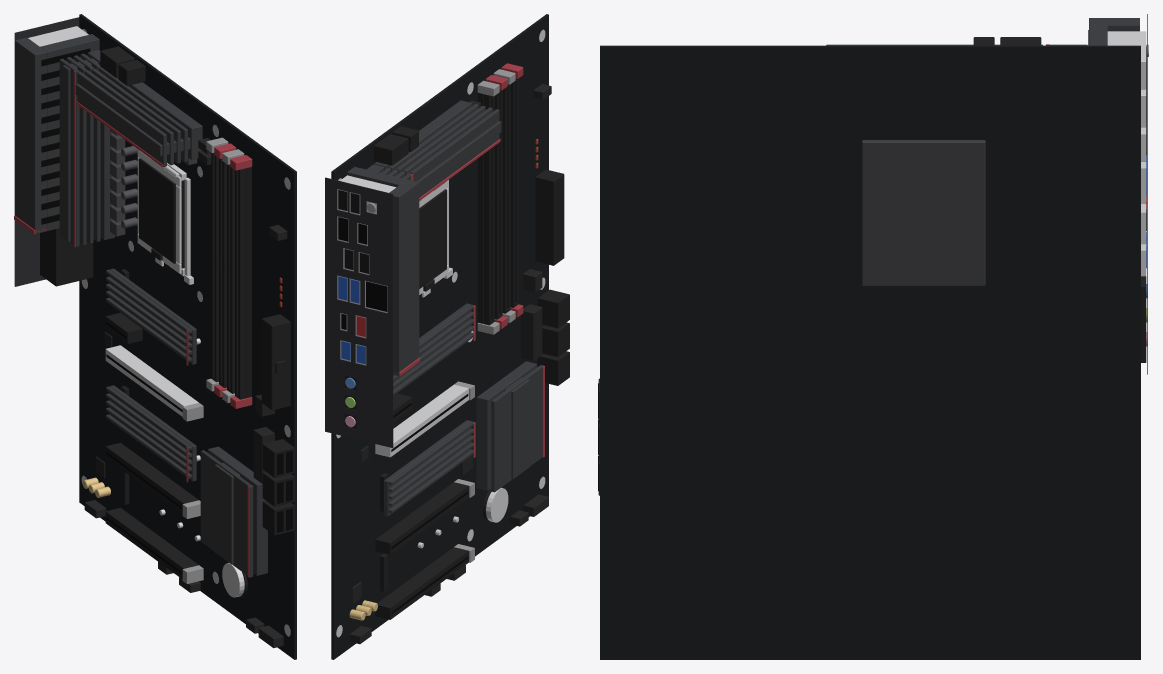
Rendered from LGA1700_MB_ATX.glb.
3 views of the same model, side by side, from view 1: azimuth 30°, elevation 25°; view 2: azimuth 150°, elevation 25°; view 3: azimuth 270°, elevation 25° (orthographic). The views are drawn at different scales.
Visible parts, largest first — view 1: PCB, IO_Cover, VRM_Heatsink_Left, VRM_Heatsink_Top, Chipset_Heatsink, DIMM_B2, M2_0_Heatsink, M2_1_Heatsink, Socket_Cover, Board_Components, Rear_IO, SATA_Ports (+14 smaller); view 2: PCB, IO_Shield, Chipset_Heatsink, IO_Cover, VRM_Heatsink_Top, Rear_IO, DIMM_A1, M2_1_Heatsink, Headers, Power_ATX24, M2_0_Heatsink, SATA_Ports (+13 smaller); view 3: PCB, CPU_Backplate, Rear_IO, IO_Cover.
Part boxes in pixels (x1,y1,x2,y2): PCB: [79, 14, 296, 659]; IO_Cover: [14, 34, 99, 234]; VRM_Heatsink_Left: [59, 50, 115, 247]; VRM_Heatsink_Top: [75, 66, 202, 166]; Chipset_Heatsink: [200, 446, 267, 577]; DIMM_B2: [230, 155, 252, 408]; M2_0_Heatsink: [106, 268, 196, 365]; M2_1_Heatsink: [106, 385, 196, 482]; Socket_Cover: [139, 158, 175, 263]; Board_Components: [82, 129, 282, 497]; Rear_IO: [28, 26, 93, 286]; SATA_Ports: [262, 439, 294, 535]; PCB: [331, 14, 548, 659]; IO_Shield: [325, 177, 393, 447]; Chipset_Heatsink: [476, 361, 544, 492]; IO_Cover: [347, 167, 419, 376]; VRM_Heatsink_Top: [374, 100, 501, 200]; Rear_IO: [337, 175, 395, 429]; DIMM_A1: [477, 80, 499, 334]; M2_1_Heatsink: [384, 420, 475, 516]; Headers: [350, 84, 551, 644]; Power_ATX24: [535, 169, 564, 265]; M2_0_Heatsink: [393, 303, 475, 395]; SATA_Ports: [537, 289, 569, 385]; PCB: [600, 45, 1140, 659]; CPU_Backplate: [861, 140, 985, 285]; Rear_IO: [1107, 31, 1148, 362]; IO_Cover: [1088, 18, 1139, 45].
Size of the model in its own units: 0.0472 by 0.305 by 0.2483.
